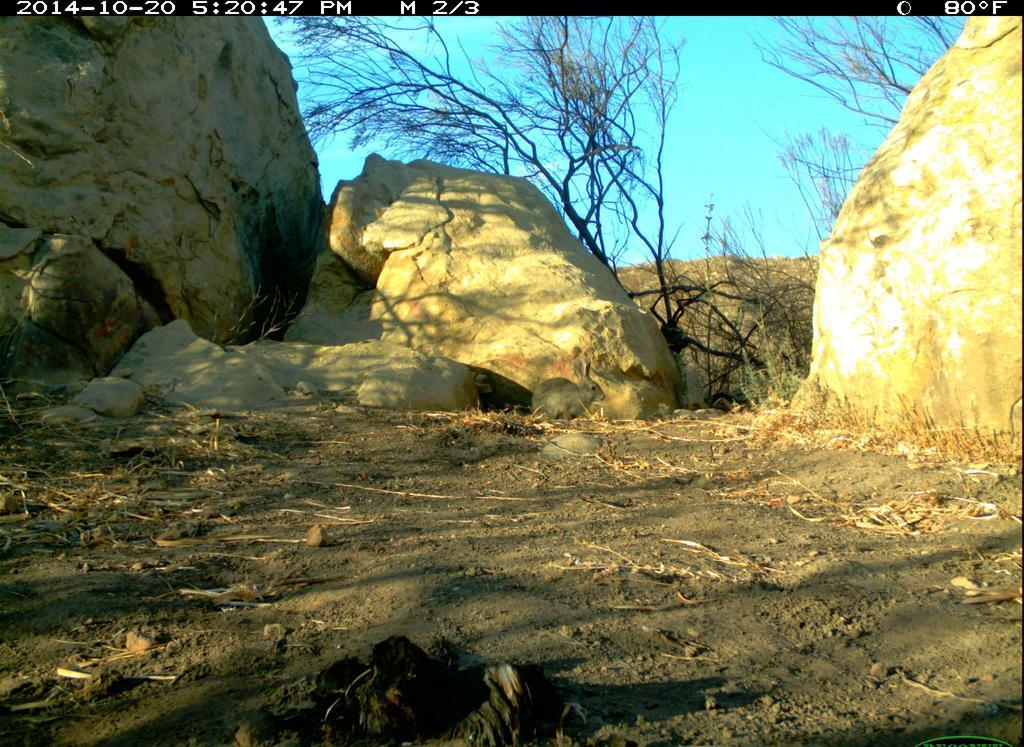rabbit: (507, 338, 628, 445)
